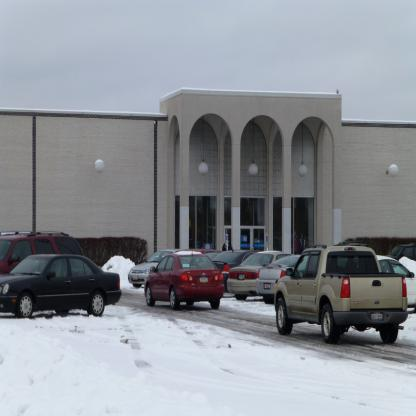Truck: (272, 246, 414, 349)
